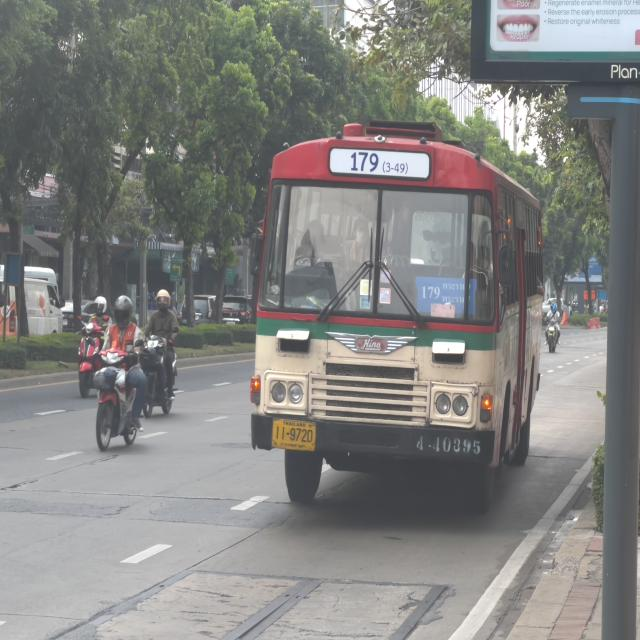BMTA-bus: (249, 123, 546, 505)
Bus-Line-Number: (346, 144, 410, 182)
Destination-Sign-Normal: (417, 276, 478, 318)
